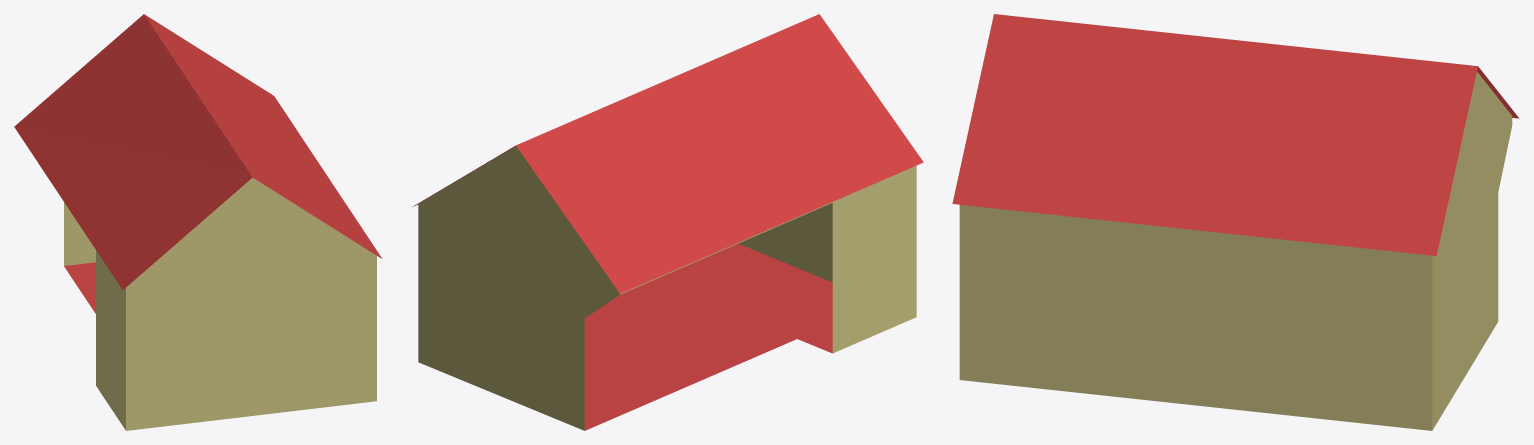
The picture shows the model from 3 angles, left to right: view 1: azimuth 30°, elevation 25°; view 2: azimuth 150°, elevation 25°; view 3: azimuth 270°, elevation 25°; orthographic projection. The views are drawn at different scales.
Bounding box in the file's own units: 18.95 × 23.95 × 13.93.
